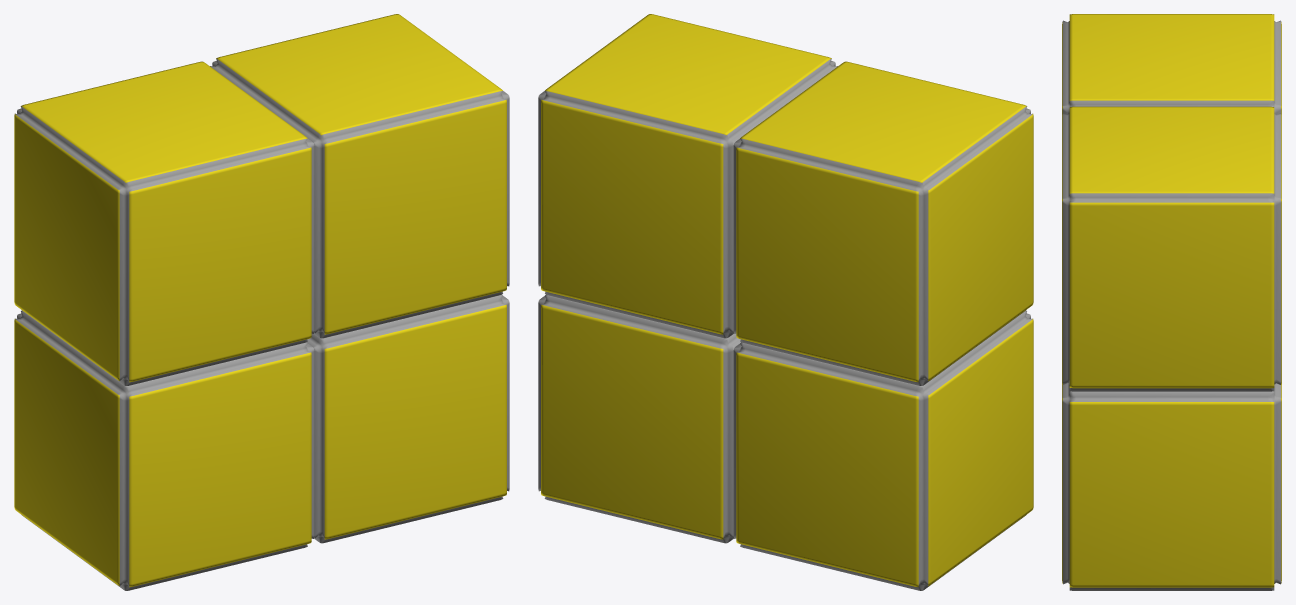
Rendered from yellowTetrinimous.fbx.
3 renders of one model, left to right at view 1: azimuth 30°, elevation 25°; view 2: azimuth 150°, elevation 25°; view 3: azimuth 270°, elevation 25°, orthographic. The views are drawn at different scales.
Visible parts, largest first — view 1: yellowTetrinimous; view 2: yellowTetrinimous; view 3: yellowTetrinimous.
Part boxes in pixels (x1=…): yellowTetrinimous: x1=14, y1=14, x2=509, y2=590; yellowTetrinimous: x1=538, y1=14, x2=1033, y2=590; yellowTetrinimous: x1=1062, y1=14, x2=1281, y2=590.
Size of the model in its own units: 2.02 by 2.02 by 1.01.
